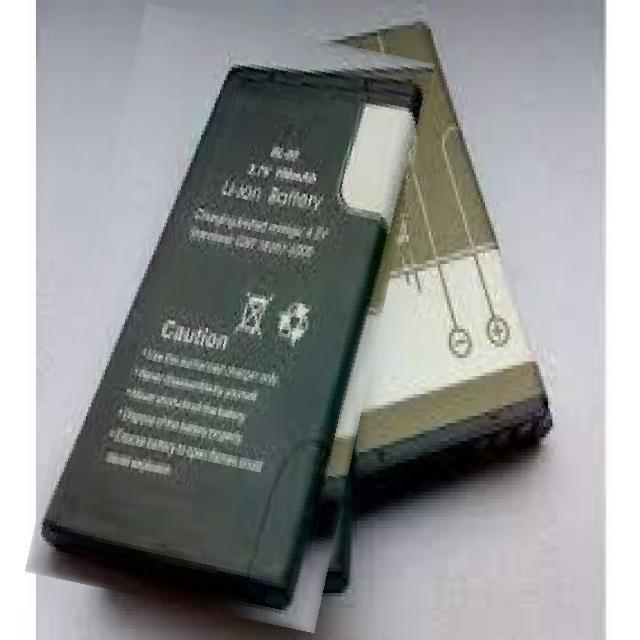Battery: (18, 61, 424, 606), (325, 9, 554, 489)
